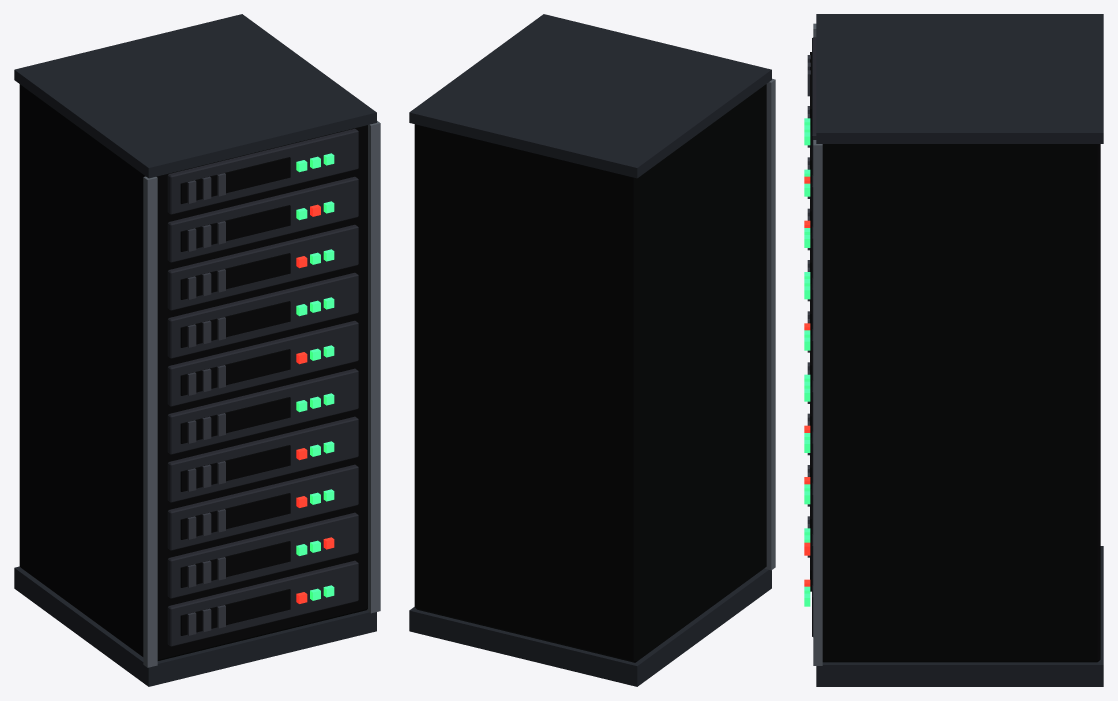
The model's file is server_rack.glb.
3 renders of one model, left to right at view 1: azimuth 30°, elevation 25°; view 2: azimuth 150°, elevation 25°; view 3: azimuth 270°, elevation 25°, orthographic. The views are drawn at different scales.
Parts seen in each view (by area): view 1: server_rack; view 2: server_rack; view 3: server_rack.
Part boxes in pixels (box(x1,y1,x2,y2)): server_rack: box(14, 14, 380, 686); server_rack: box(409, 14, 775, 686); server_rack: box(804, 14, 1103, 686).
Size of the model in its own units: 0.94 by 2 by 0.98.
